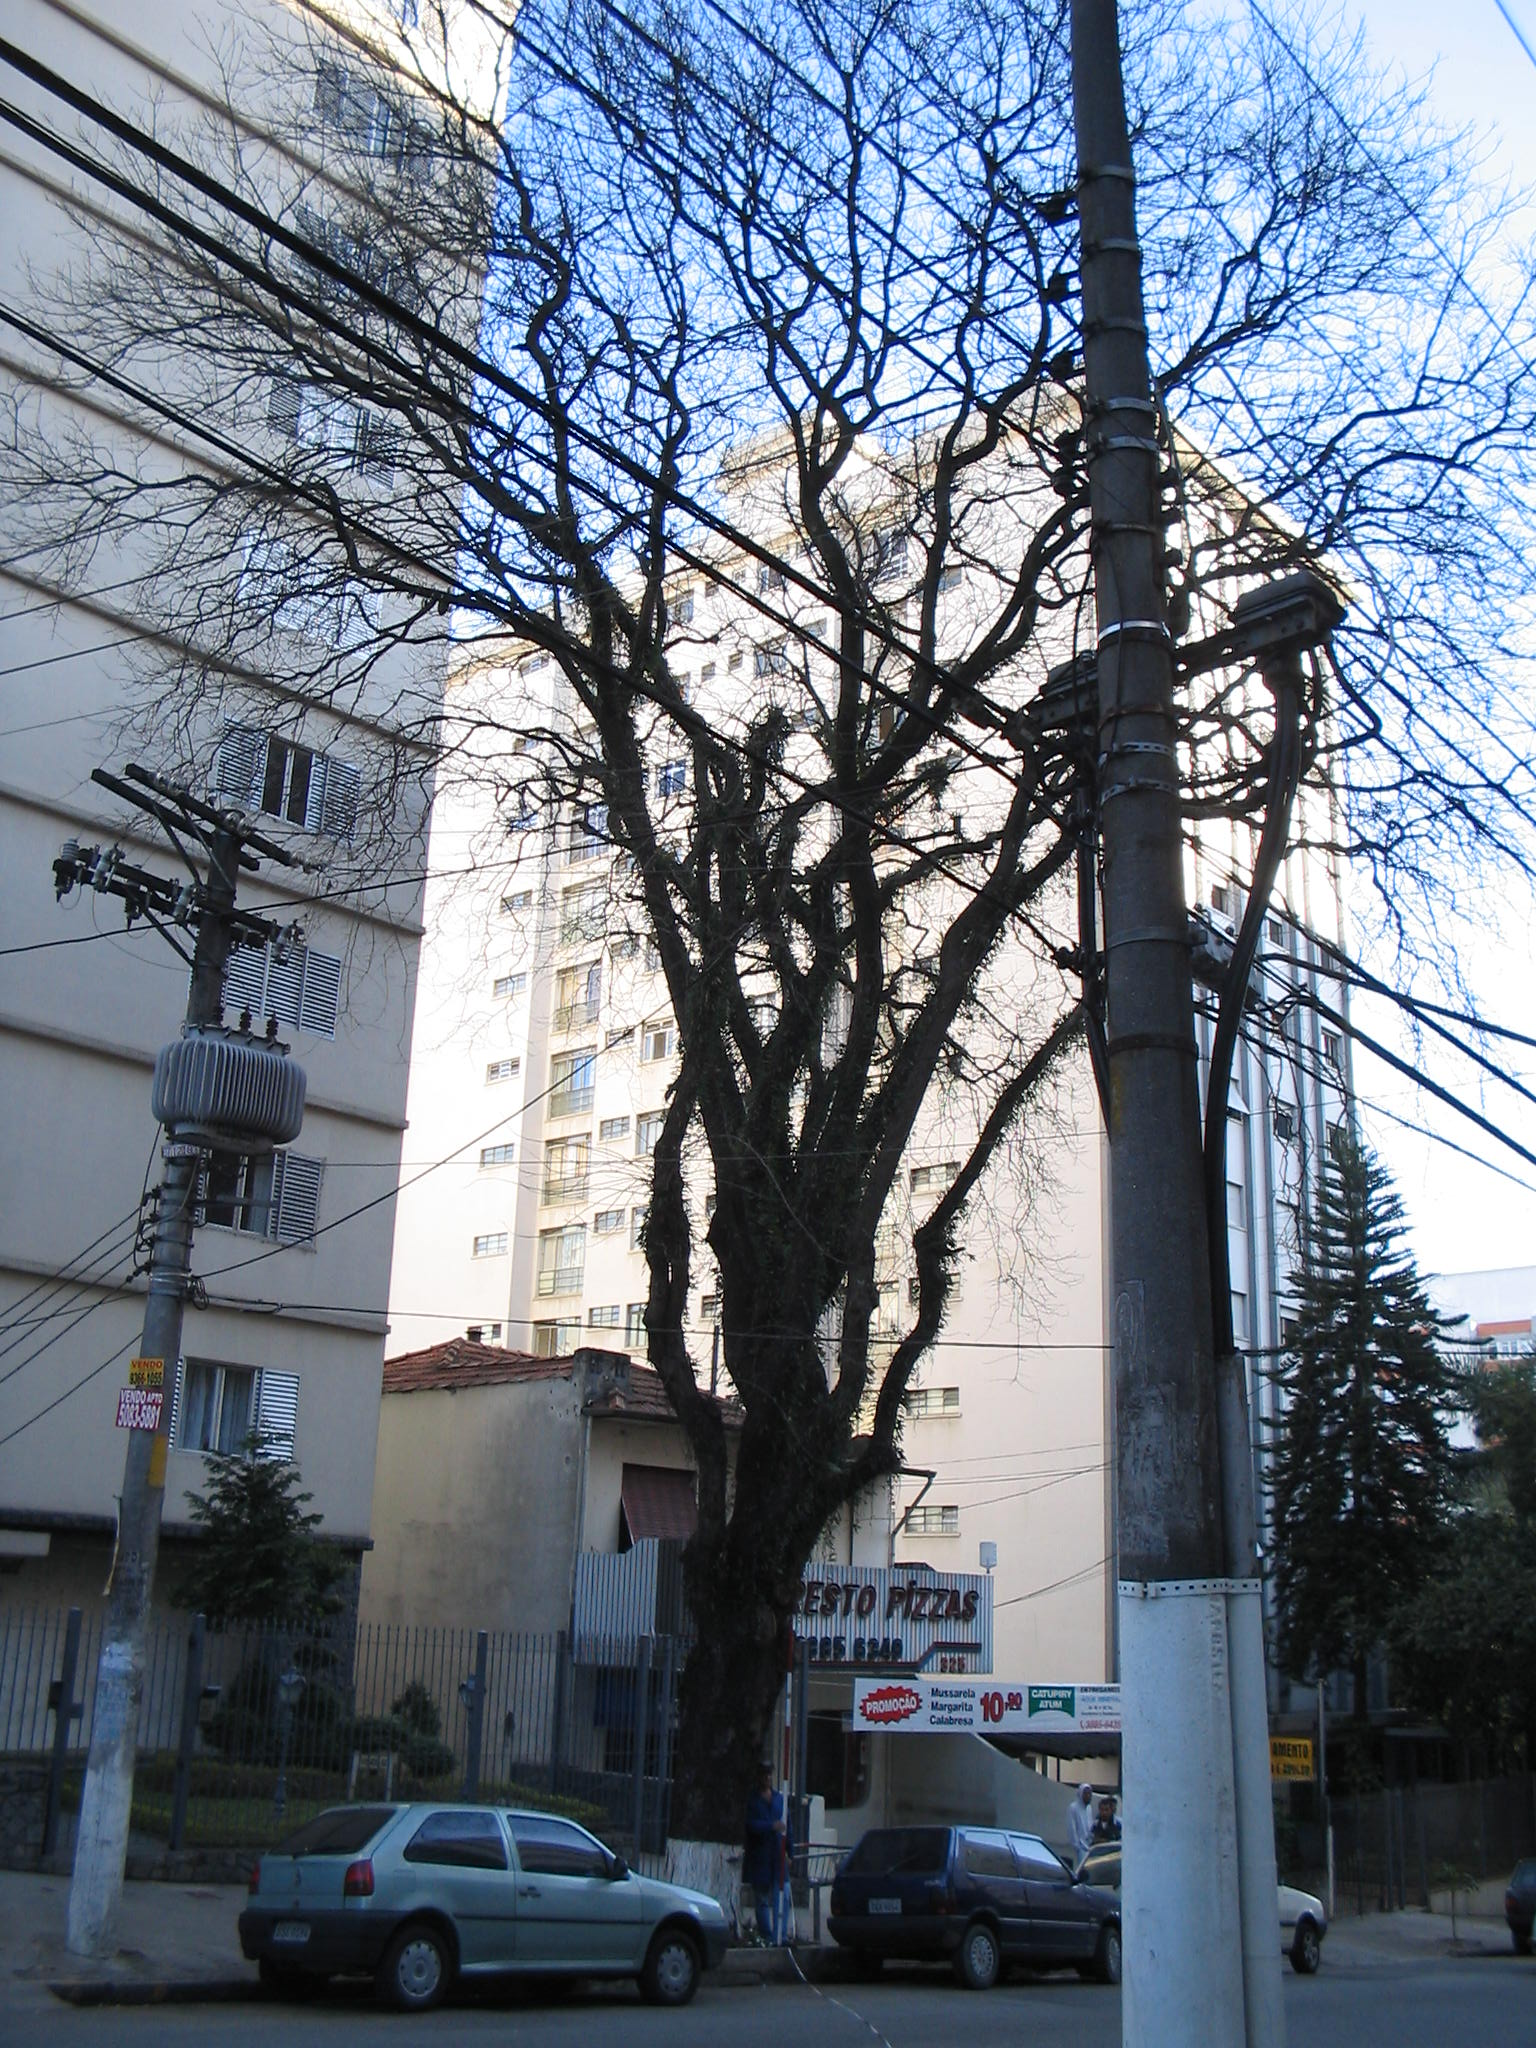stem: (629, 1534, 833, 1950)
stick: (758, 1629, 821, 1951)
tree: (2, 5, 1536, 1953), (1246, 1134, 1483, 1729)
